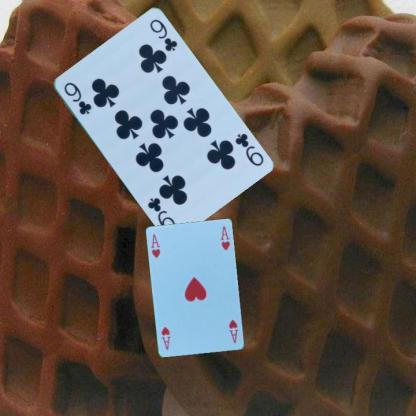9c: (232, 130, 264, 168), (61, 79, 92, 116)
Ah: (226, 317, 240, 344), (148, 232, 162, 259)
